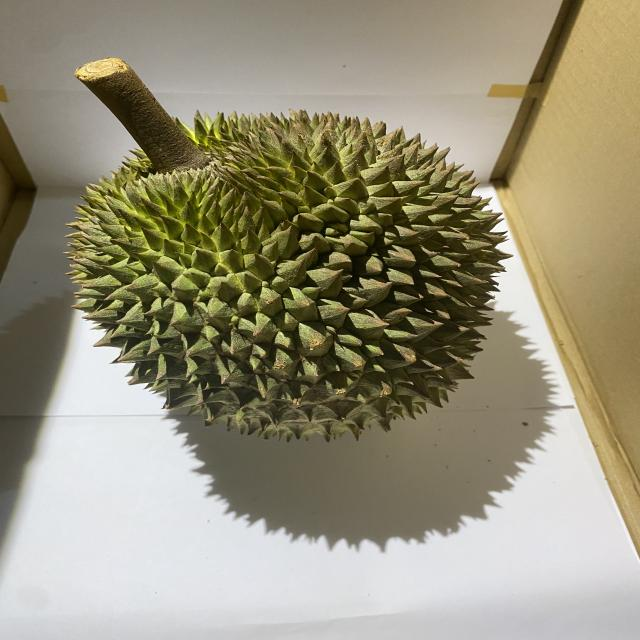immature: (62, 103, 508, 446)
